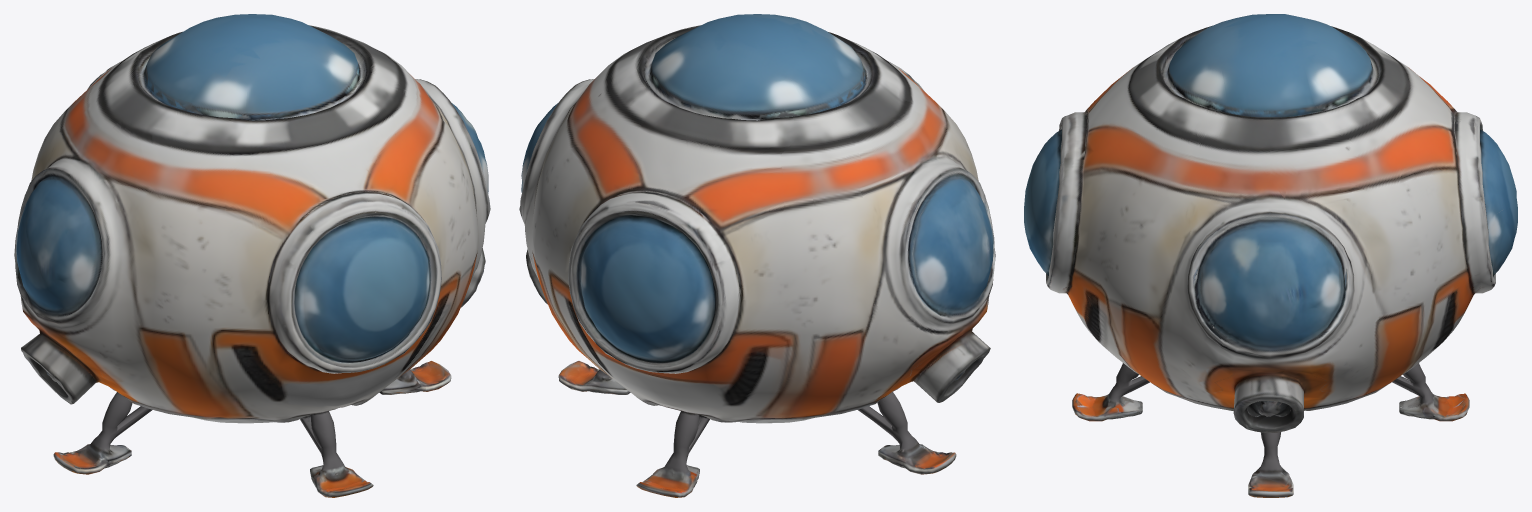
File: Capsule_Spaceship.fbx
The picture shows the model from 3 angles, left to right: view 1: azimuth 30°, elevation 25°; view 2: azimuth 150°, elevation 25°; view 3: azimuth 270°, elevation 25°; orthographic projection. The views are drawn at different scales.
Visible parts, largest first — view 1: Capsule_Spaceship; view 2: Capsule_Spaceship; view 3: Capsule_Spaceship.
Part boxes in pixels (x1=…): Capsule_Spaceship: x1=14, y1=14, x2=490, y2=497; Capsule_Spaceship: x1=519, y1=14, x2=995, y2=497; Capsule_Spaceship: x1=1024, y1=14, x2=1517, y2=497.
Bounding box in the file's own units: 124 × 105 × 122.
2 materials, 2 textured.
